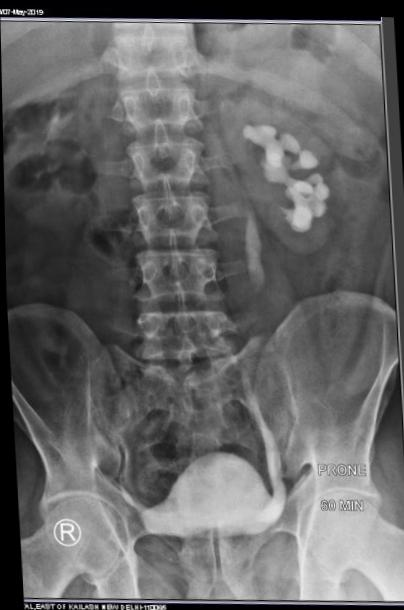vertebrae: (114, 76, 205, 134)
